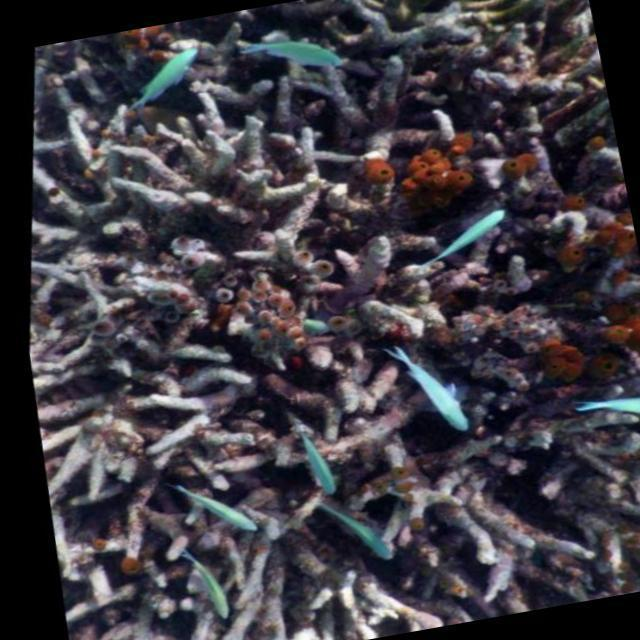Dead Coral: (18, 61, 640, 640)
